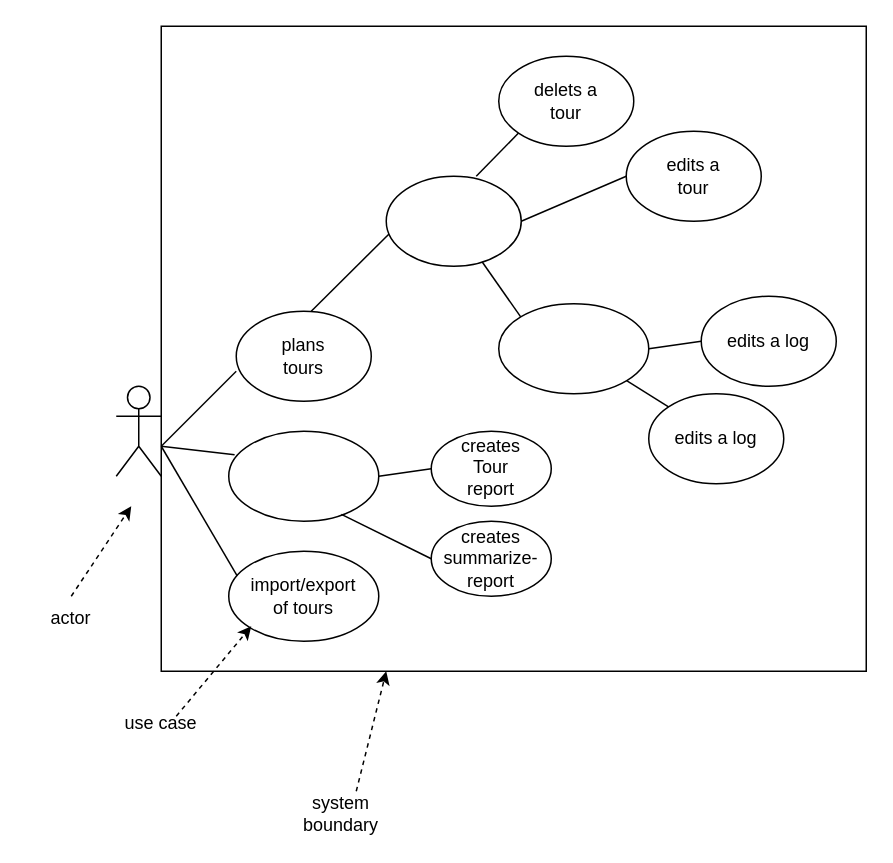
The diagram is 893 pixels wide and 863 high, and some of its shapes have lost their labels. Each missing label, with the centre of its shape:
"analyzes Tours" goes at point (303, 475).
"creates new tour" goes at point (453, 220).
"creates tour logs" goes at point (573, 348).
"User" goes at point (138, 430).
